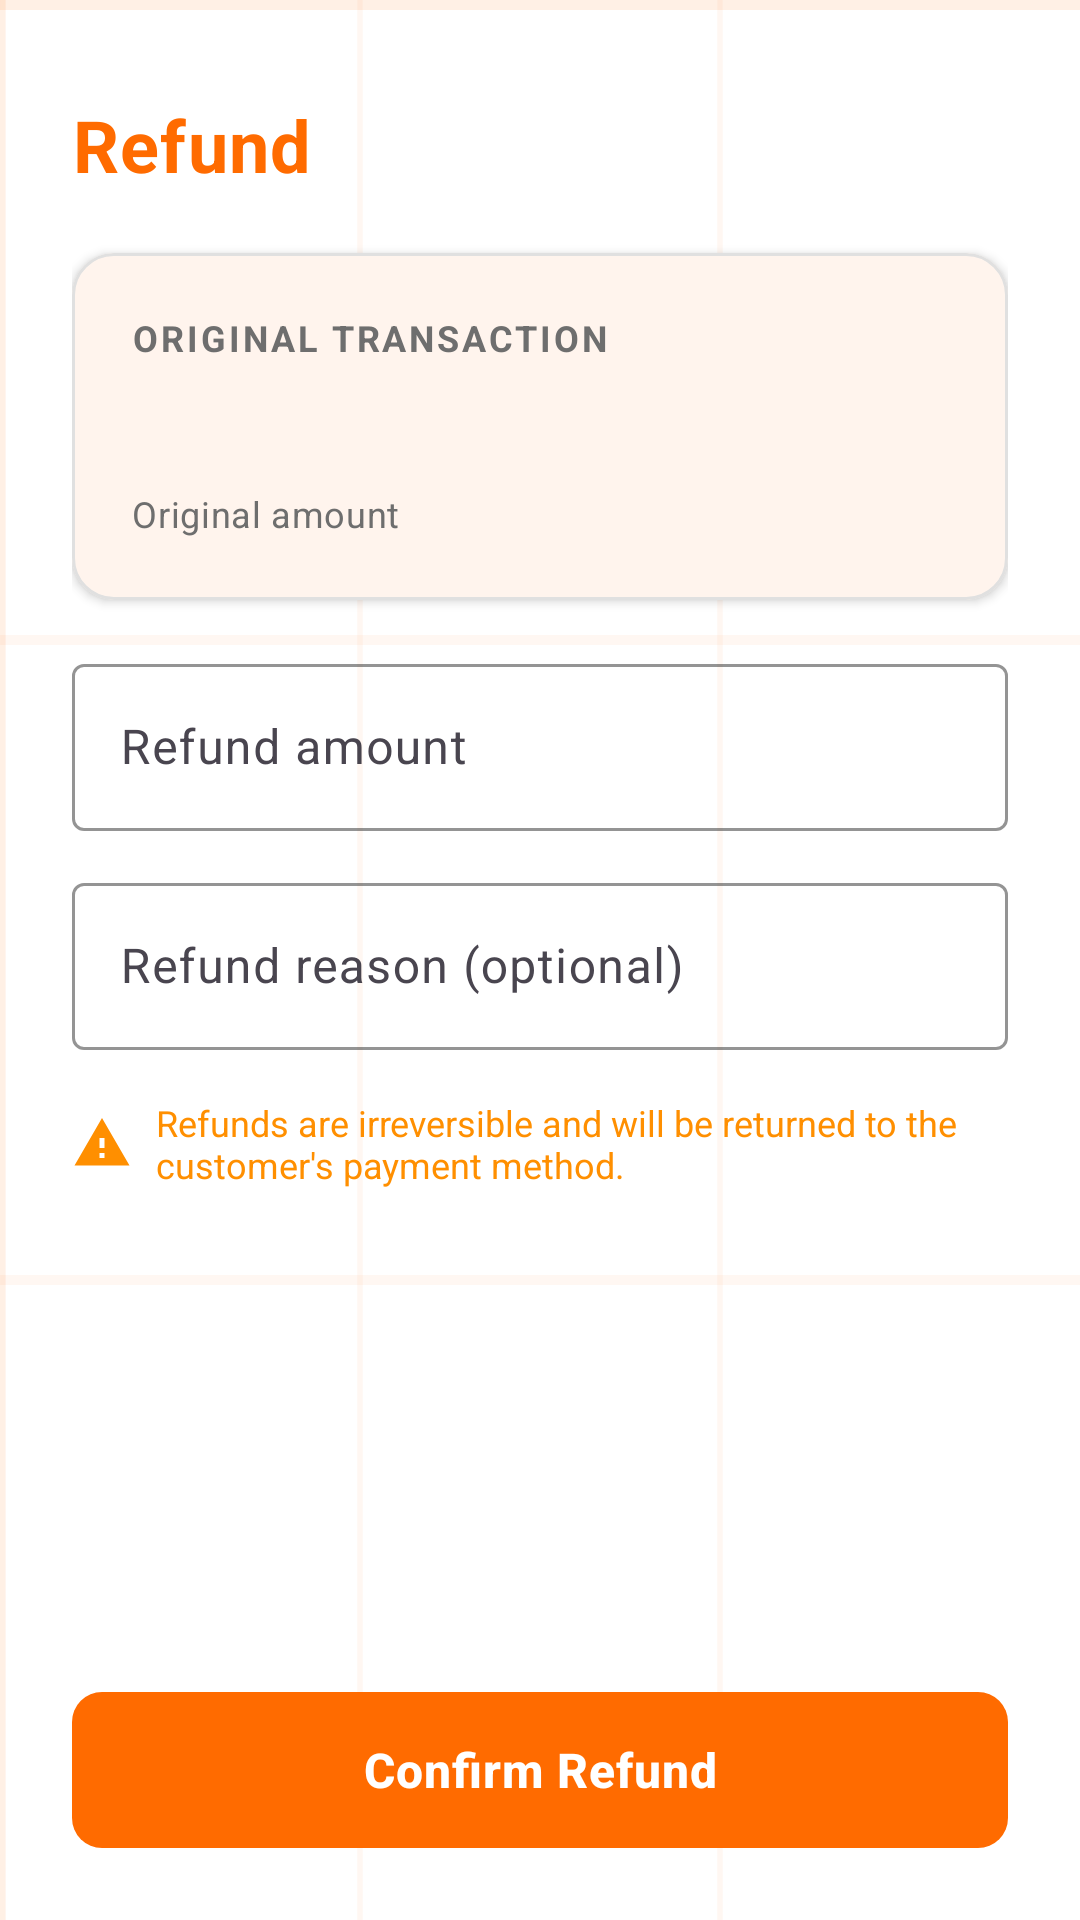

Point at icon controls on the screen. Image size 1080px×1920px, points as point (x, y).
warning: point (102, 1142)
